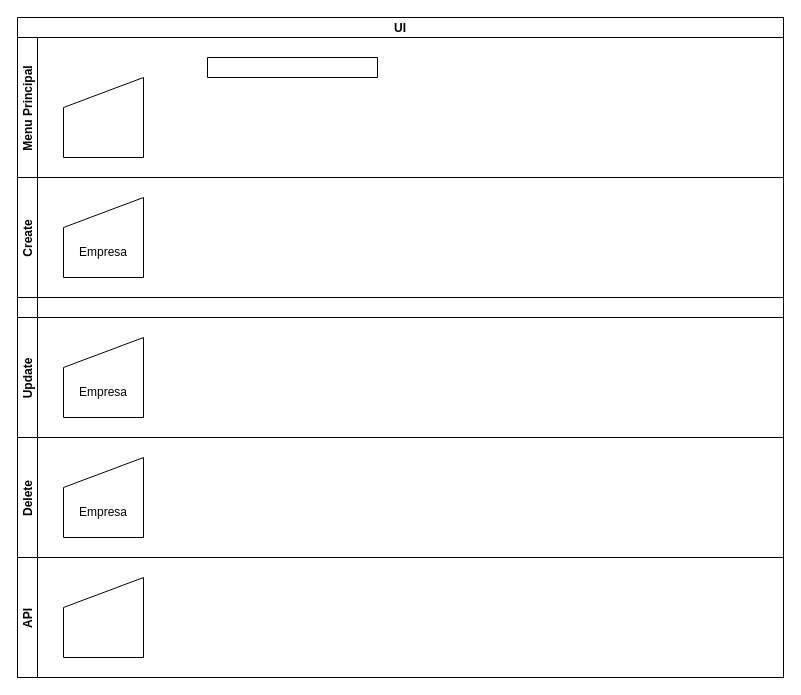
Image size: 801x695. Some labels were removed from this diagram. Each missing label, with the centre of its shape:
"CEP" goes at (x=103, y=617).
"DAO - Data Acess Object" goes at (x=292, y=67).
"Obtem escolha do Usuário" goes at (x=103, y=117).
"Read" goes at (x=400, y=307).
